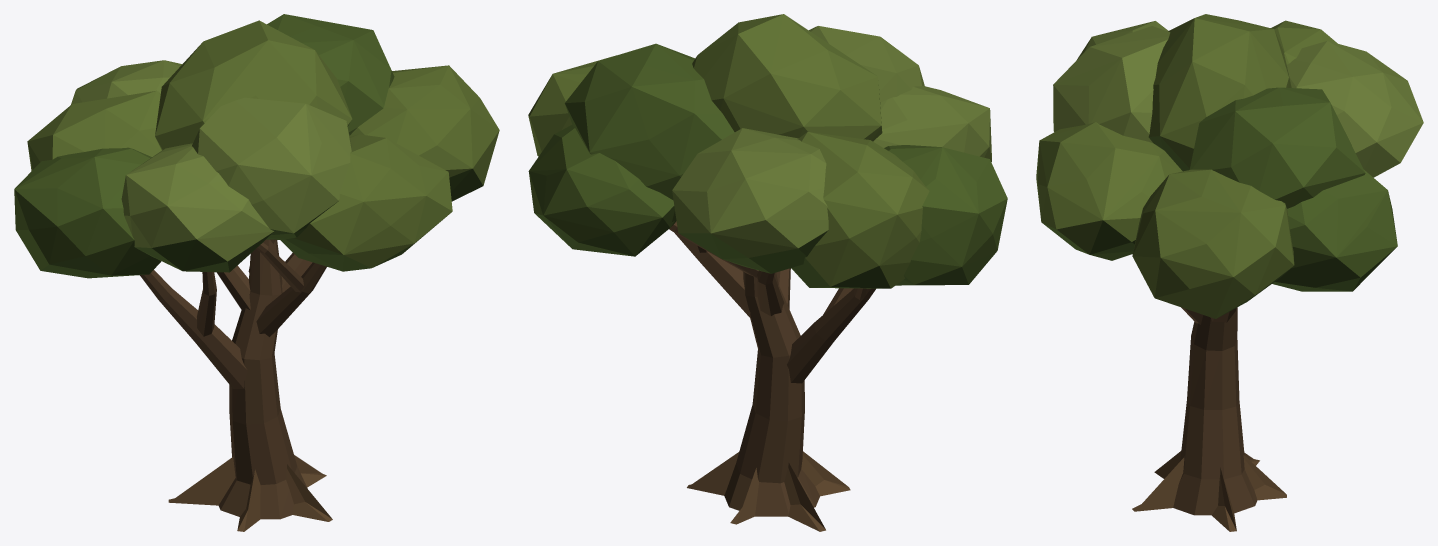
File: Arbol_hoja_ancha.glb
The picture shows the model from 3 angles, left to right: view 1: azimuth 30°, elevation 25°; view 2: azimuth 150°, elevation 25°; view 3: azimuth 270°, elevation 25°; orthographic projection. The views are drawn at different scales.
Parts seen in each view (by area): view 1: Verde_oliva, Verde_hoja, Tronco_marron, Verde_bosque, Verde_sombra, Raices_marron; view 2: Verde_bosque, Verde_oliva, Verde_hoja, Tronco_marron, Verde_sombra, Raices_marron; view 3: Verde_oliva, Verde_bosque, Verde_hoja, Tronco_marron, Verde_sombra, Raices_marron.
Boxes of the visible parts, <box> form: Verde_oliva: <box>27,20,499,268</box>; Verde_hoja: <box>71,60,351,261</box>; Tronco_marron: <box>140,239,326,519</box>; Verde_bosque: <box>14,14,394,275</box>; Verde_sombra: <box>40,123,482,278</box>; Raices_marron: <box>168,455,332,531</box>; Verde_bosque: <box>528,43,1007,284</box>; Verde_oliva: <box>528,14,929,288</box>; Verde_hoja: <box>672,26,991,257</box>; Tronco_marron: <box>669,221,875,516</box>; Verde_sombra: <box>535,213,968,288</box>; Raices_marron: <box>687,451,850,531</box>; Verde_oliva: <box>1036,14,1337,318</box>; Verde_bosque: <box>1189,87,1397,277</box>; Verde_hoja: <box>1053,21,1423,177</box>; Tronco_marron: <box>1173,307,1257,515</box>; Verde_sombra: <box>1042,136,1396,316</box>; Raices_marron: <box>1132,451,1286,531</box>.
Size of the model in its own units: 5.1 by 5.02 by 3.7.
